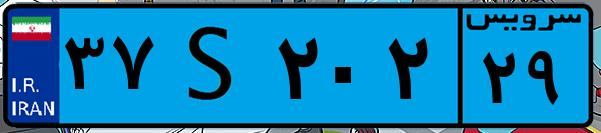0: (330, 28, 385, 110)
2: (270, 28, 330, 110), (385, 28, 445, 110), (475, 38, 525, 113)
3: (57, 26, 110, 100)
7: (110, 28, 158, 98)
9: (525, 38, 570, 115)
S: (158, 12, 270, 120)
